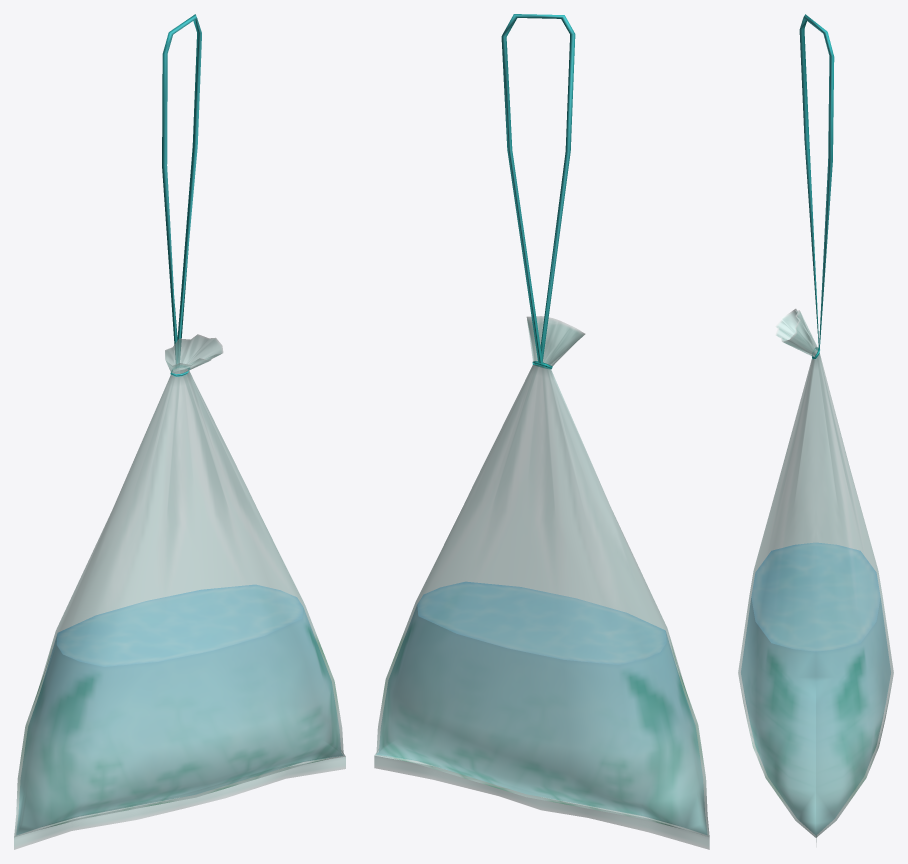
Rendered from jsf_Goldfishbag_A.fbx.
The picture shows the model from 3 angles, left to right: view 1: azimuth 30°, elevation 25°; view 2: azimuth 150°, elevation 25°; view 3: azimuth 270°, elevation 25°; orthographic projection. The views are drawn at different scales.
Visible parts, largest first — view 1: GoldfishBag_A, Water, BagStrap; view 2: GoldfishBag_A, Water, BagStrap; view 3: GoldfishBag_A, Water, BagStrap.
Boxes of the visible parts, <box> form: GoldfishBag_A: <box>14,334,345,849</box>; Water: <box>16,585,342,835</box>; BagStrap: <box>162,14,201,376</box>; GoldfishBag_A: <box>374,316,709,849</box>; Water: <box>377,582,707,834</box>; BagStrap: <box>501,14,575,369</box>; GoldfishBag_A: <box>738,308,893,847</box>; Water: <box>741,543,890,834</box>; BagStrap: <box>799,14,834,359</box>.
Size of the model in its own units: 14 by 31.71 by 5.96.
